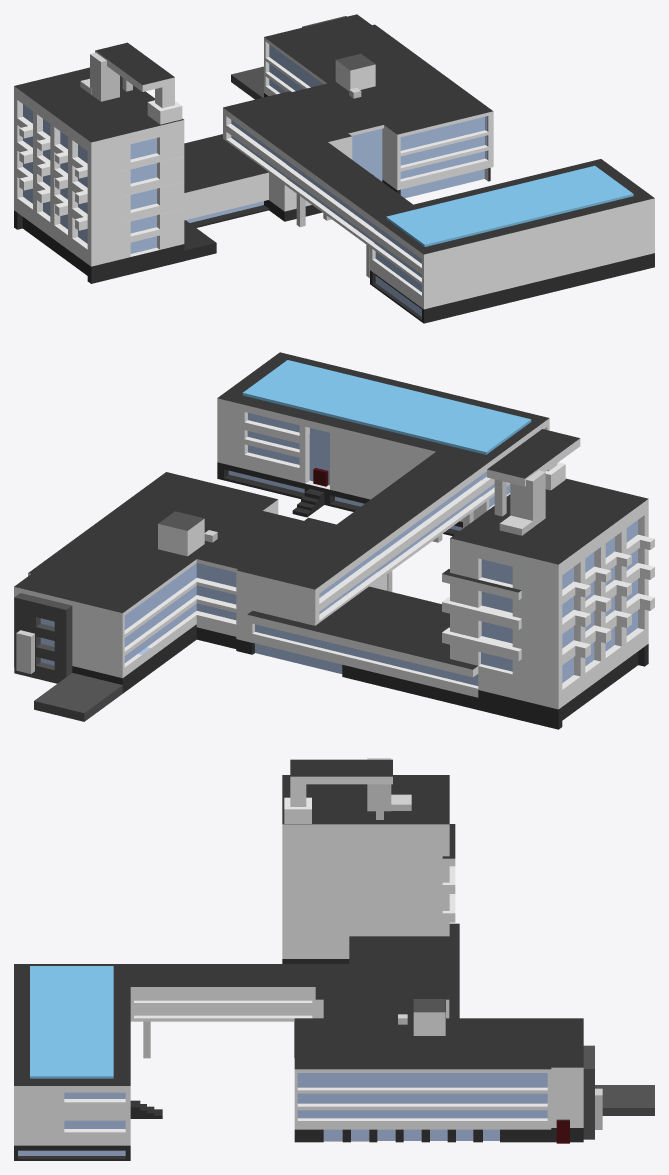
The model's file is badge_bauhaus.glb.
3 views of the same model, one above another, from view 1: azimuth 30°, elevation 25°; view 2: azimuth 150°, elevation 25°; view 3: azimuth 270°, elevation 25° (orthographic). The views are drawn at different scales.
Visible parts, largest first — view 1: Cube.003, Cube, Cube.004, Cube.028, Cube.009, Cube.001, Cube.005, Cube.002, Cube.023, Cube.029, Cube.010, Cube.027 (+2 smaller); view 2: Cube.003, Cube.004, Cube, Cube.002, Cube.028, Cube.009, Cube.001, Cube.005, Cube.008, Cube.023, Cube.006, Cube.029 (+3 smaller); view 3: Cube.004, Cube.003, Cube, Cube.001, Cube.028, Cube.009, Cube.002, Cube.023, Cube.005, Cube.006, Cube.029, Cube.008 (+1 smaller).
Part boxes in pixels (left/top/right/bottom): Cube.003: left=14, top=67, right=184, bottom=283; Cube: left=370, top=159, right=654, bottom=323; Cube.004: left=264, top=14, right=493, bottom=198; Cube.028: left=386, top=165, right=633, bottom=246; Cube.009: left=223, top=91, right=352, bottom=221; Cube.001: left=281, top=139, right=418, bottom=255; Cube.005: left=252, top=67, right=447, bottom=181; Cube.002: left=184, top=134, right=268, bottom=227; Cube.023: left=95, top=42, right=174, bottom=108; Cube.029: left=335, top=53, right=375, bottom=91; Cube.010: left=160, top=220, right=216, bottom=266; Cube.027: left=90, top=52, right=119, bottom=101; Cube.003: left=442, top=478, right=654, bottom=729; Cube.004: left=14, top=472, right=278, bottom=693; Cube: left=217, top=352, right=549, bottom=536; Cube.002: left=247, top=586, right=478, bottom=709; Cube.028: left=242, top=360, right=531, bottom=454; Cube.009: left=236, top=517, right=387, bottom=654; Cube.001: left=333, top=446, right=500, bottom=573; Cube.005: left=155, top=492, right=317, bottom=648; Cube.008: left=14, top=593, right=72, bottom=683; Cube.023: left=487, top=429, right=580, bottom=486; Cube.006: left=34, top=673, right=122, bottom=721; Cube.029: left=158, top=511, right=204, bottom=556; Cube.004: left=294, top=1018, right=583, bottom=1143; Cube.003: left=282, top=775, right=455, bottom=963; Cube: left=14, top=964, right=130, bottom=1160; Cube.001: left=105, top=964, right=322, bottom=1021; Cube.028: left=30, top=966, right=113, bottom=1078; Cube.009: left=315, top=964, right=449, bottom=1018; Cube.002: left=349, top=923, right=459, bottom=1018; Cube.023: left=290, top=759, right=392, bottom=806; Cube.005: left=323, top=989, right=445, bottom=1018; Cube.006: left=595, top=1085, right=654, bottom=1115; Cube.029: left=413, top=999, right=445, bottom=1035; Cube.008: left=583, top=1045, right=594, bottom=1139.
Size of the model in its own units: 13.6 by 5.29 by 15.53.
